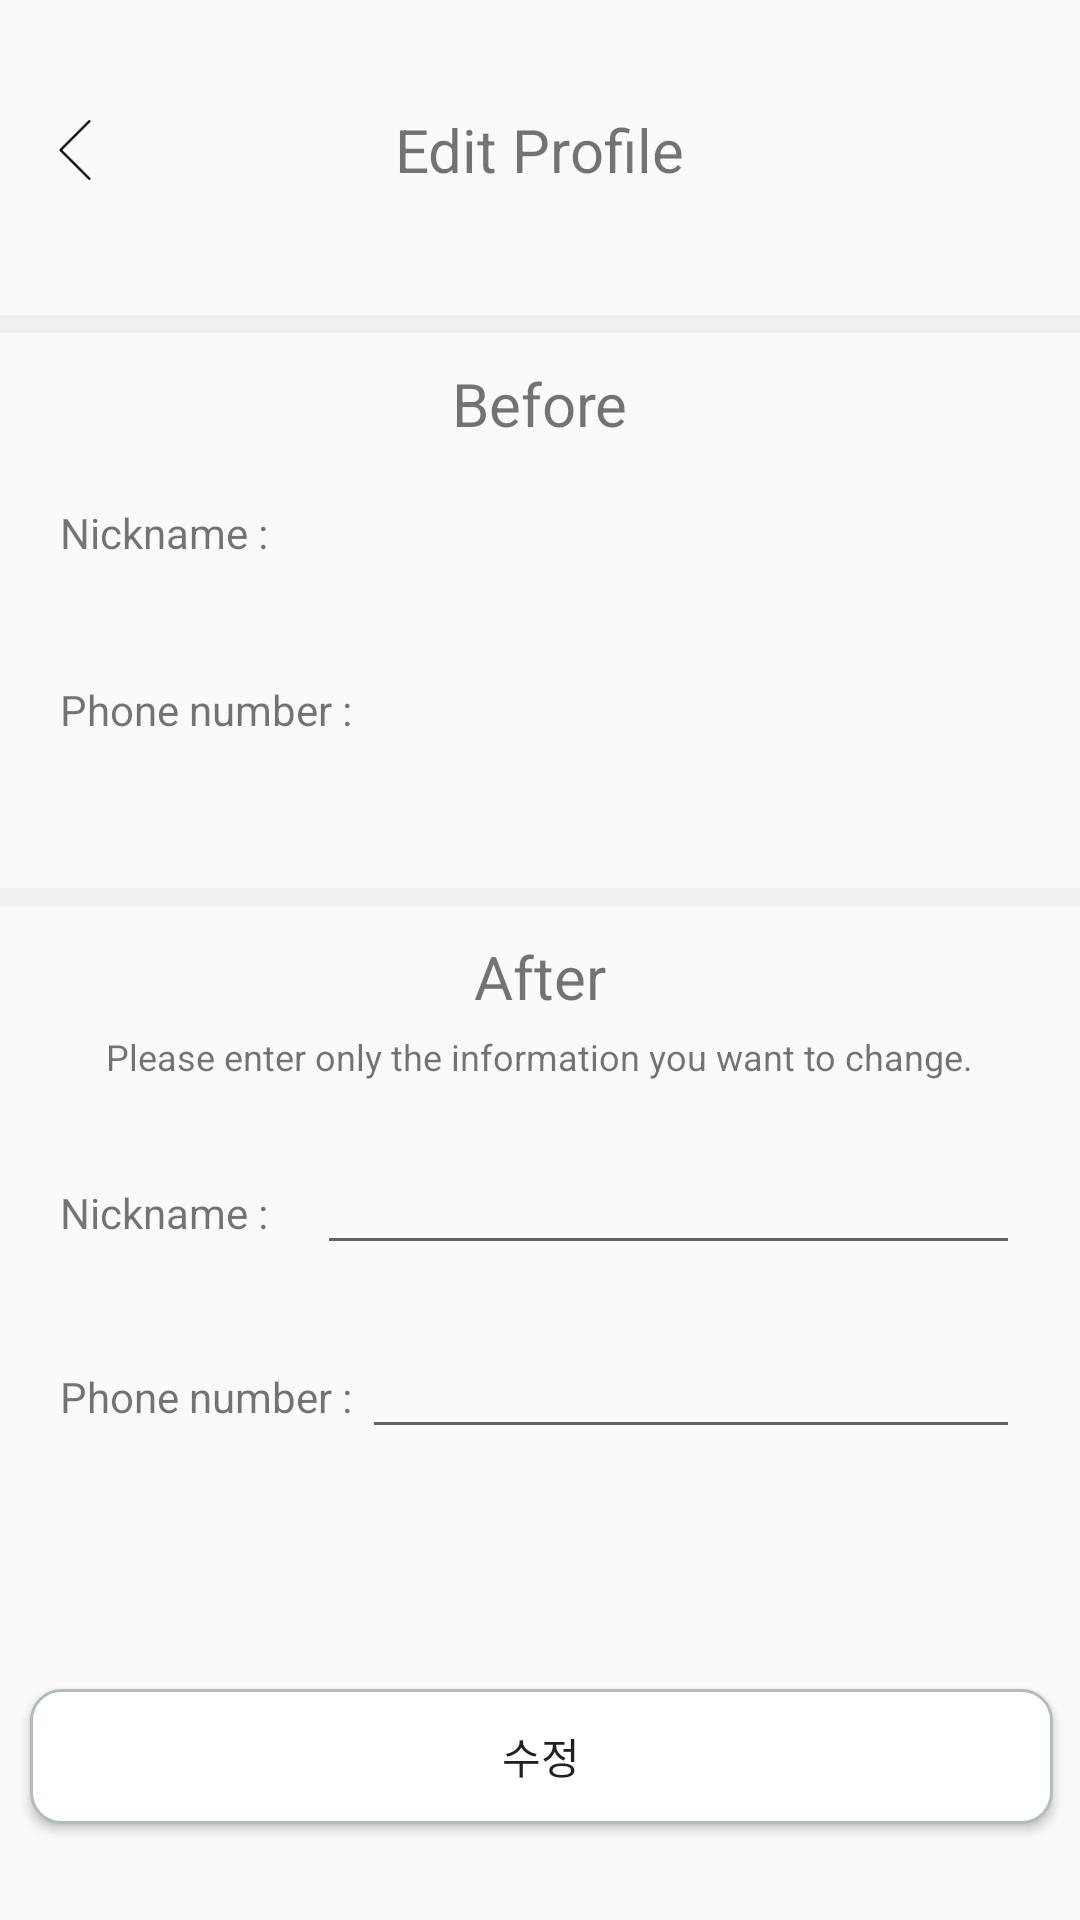

Where to tap for icons on this 1080x1920 app screen, as [x,y]:
arrow: [75,150]
